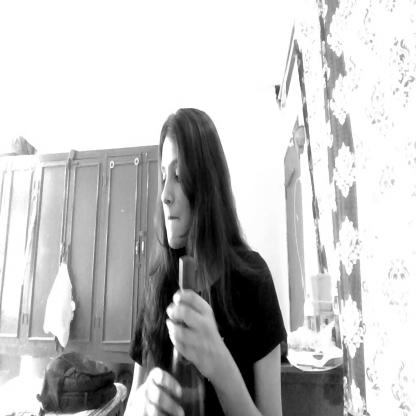Distracted: (155, 104, 225, 263)
